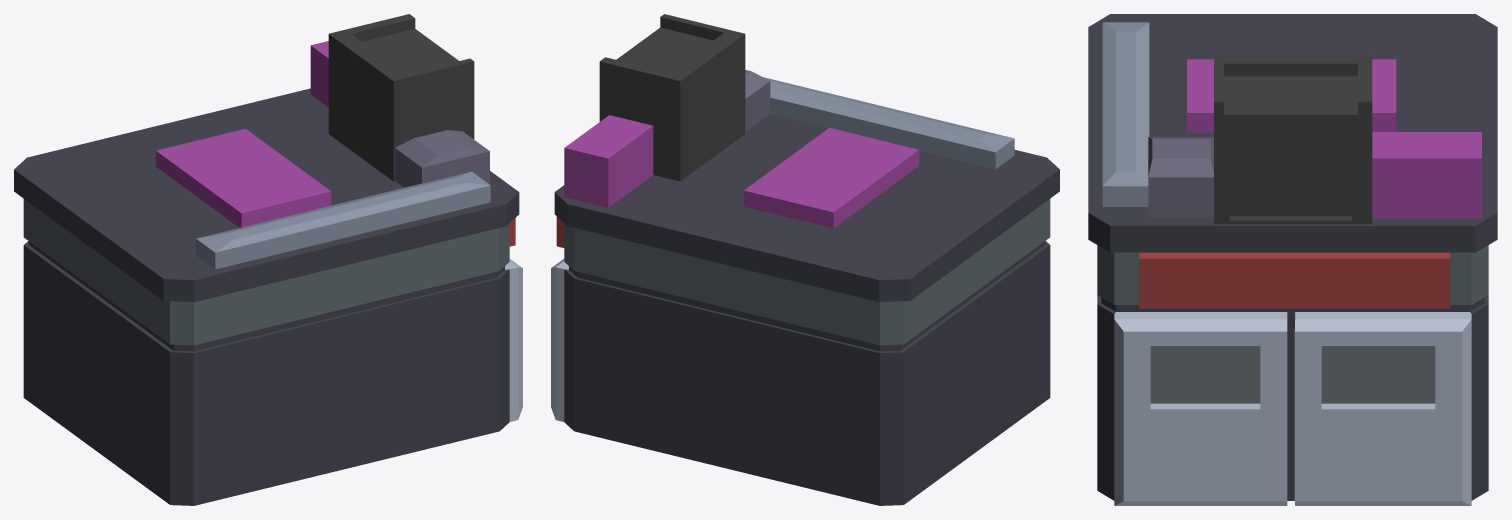
File: 6_Main.fbx
The picture shows the model from 3 angles, left to right: view 1: azimuth 30°, elevation 25°; view 2: azimuth 150°, elevation 25°; view 3: azimuth 270°, elevation 25°; orthographic projection. The views are drawn at different scales.
Visible parts, largest first — view 1: pasted__pCube34, pasted__pCube35, pasted__pCube37, pCube48, pasted__pCube36, pCube47; view 2: pasted__pCube34, pasted__pCube35, pCube48, pasted__pCube37, pCube47, pasted__pCube36; view 3: pasted__pCube34, pasted__pCube35, pCube46, pCube47, pasted__pCube37, pasted__pCube36, pCube48.
Part boxes in pixels (<box>): pasted__pCube34: <box>14,88,522,505</box>; pasted__pCube35: <box>328,14,474,181</box>; pasted__pCube37: <box>196,171,490,269</box>; pCube48: <box>156,128,331,227</box>; pasted__pCube36: <box>395,130,489,187</box>; pCube47: <box>310,41,328,107</box>; pasted__pCube34: <box>551,114,1059,505</box>; pasted__pCube35: <box>599,14,745,181</box>; pCube48: <box>743,128,919,228</box>; pasted__pCube37: <box>763,77,1014,169</box>; pCube47: <box>564,115,653,207</box>; pasted__pCube36: <box>745,70,770,131</box>; pasted__pCube34: <box>1088,14,1497,505</box>; pasted__pCube35: <box>1214,53,1372,224</box>; pCube46: <box>1139,252,1450,308</box>; pCube47: <box>1372,132,1481,218</box>; pasted__pCube37: <box>1102,22,1149,206</box>; pasted__pCube36: <box>1148,137,1213,217</box>; pCube48: <box>1187,59,1396,132</box>.
Size of the model in its own units: 6.32 by 5.45 by 5.03.
